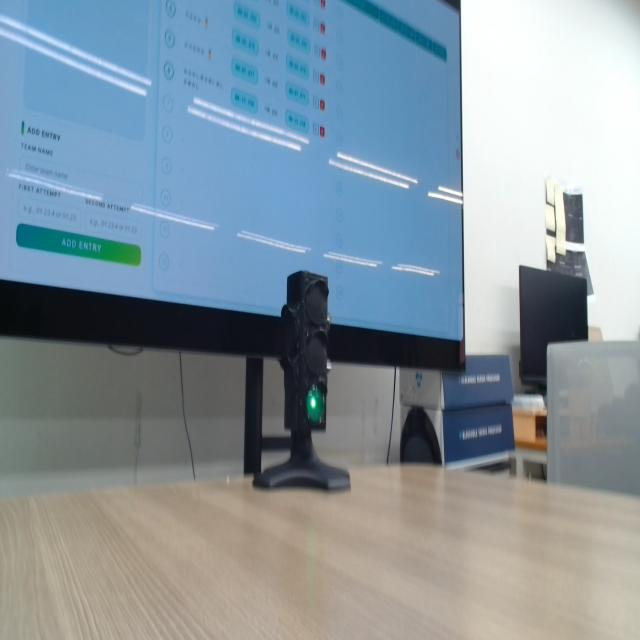green_light: (306, 386, 325, 423)
